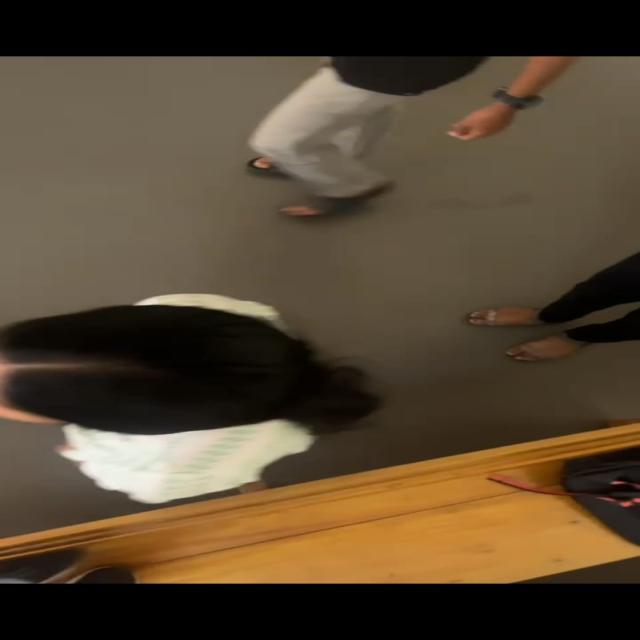humans: (0, 271, 395, 502)
